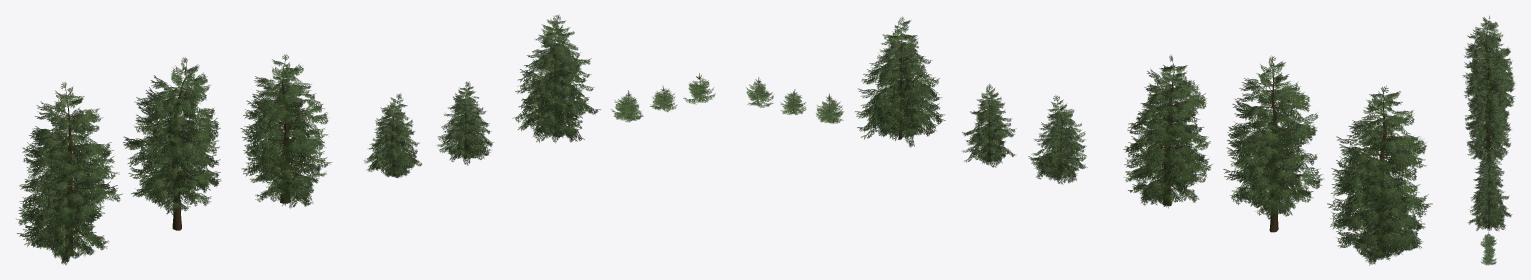
File: fir-pack.glb
3 renders of one model, left to right at view 1: azimuth 30°, elevation 25°; view 2: azimuth 150°, elevation 25°; view 3: azimuth 270°, elevation 25°, orthographic. The views are drawn at different scales.
Parts seen in each view (by area): view 1: Christmas tree_LOD0, Christmas tree_2_LOD0, Christmas tree_3_LOD0, Christmas tree_6_LOD0, Christmas tree_4_LOD0, Christmas tree_5_LOD0, Christmas tree_7_LOD0, Christmas tree_9_LOD0, Christmas tree_8_LOD0; view 2: Christmas tree_LOD0, Christmas tree_2_LOD0, Christmas tree_3_LOD0, Christmas tree_6_LOD0, Christmas tree_4_LOD0, Christmas tree_5_LOD0, Christmas tree_7_LOD0, Christmas tree_9_LOD0, Christmas tree_8_LOD0; view 3: Christmas tree_3_LOD0, Christmas tree_2_LOD0, Christmas tree_6_LOD0, Christmas tree_LOD0, Christmas tree_4_LOD0, Christmas tree_7_LOD0, Christmas tree_9_LOD0, Christmas tree_5_LOD0, Christmas tree_8_LOD0.
Boxes of the visible parts, x1,y1,x2,y2 form: Christmas tree_LOD0: (16, 82, 122, 265); Christmas tree_2_LOD0: (123, 57, 221, 230); Christmas tree_3_LOD0: (240, 53, 331, 208); Christmas tree_6_LOD0: (512, 14, 600, 143); Christmas tree_4_LOD0: (364, 93, 421, 177); Christmas tree_5_LOD0: (436, 81, 493, 165); Christmas tree_7_LOD0: (611, 90, 643, 122); Christmas tree_9_LOD0: (683, 73, 715, 104); Christmas tree_8_LOD0: (650, 85, 677, 112); Christmas tree_LOD0: (1327, 85, 1432, 265); Christmas tree_2_LOD0: (1223, 55, 1324, 232); Christmas tree_3_LOD0: (1123, 55, 1212, 208); Christmas tree_6_LOD0: (855, 16, 945, 147); Christmas tree_4_LOD0: (1028, 95, 1087, 184); Christmas tree_5_LOD0: (962, 83, 1016, 167); Christmas tree_7_LOD0: (816, 93, 844, 123); Christmas tree_9_LOD0: (746, 77, 774, 107); Christmas tree_8_LOD0: (780, 89, 806, 114); Christmas tree_3_LOD0: (1465, 83, 1511, 160); Christmas tree_2_LOD0: (1464, 45, 1515, 122); Christmas tree_6_LOD0: (1468, 165, 1512, 230); Christmas tree_LOD0: (1462, 15, 1514, 103); Christmas tree_4_LOD0: (1473, 146, 1504, 186); Christmas tree_7_LOD0: (1480, 232, 1496, 247); Christmas tree_9_LOD0: (1481, 250, 1496, 265); Christmas tree_5_LOD0: (1474, 166, 1501, 207); Christmas tree_8_LOD0: (1483, 243, 1495, 255).
Size of what is drawn, in the model's own units: 38.28 by 9.31 by 5.12.
Materials: 2 (2 with a texture image).
